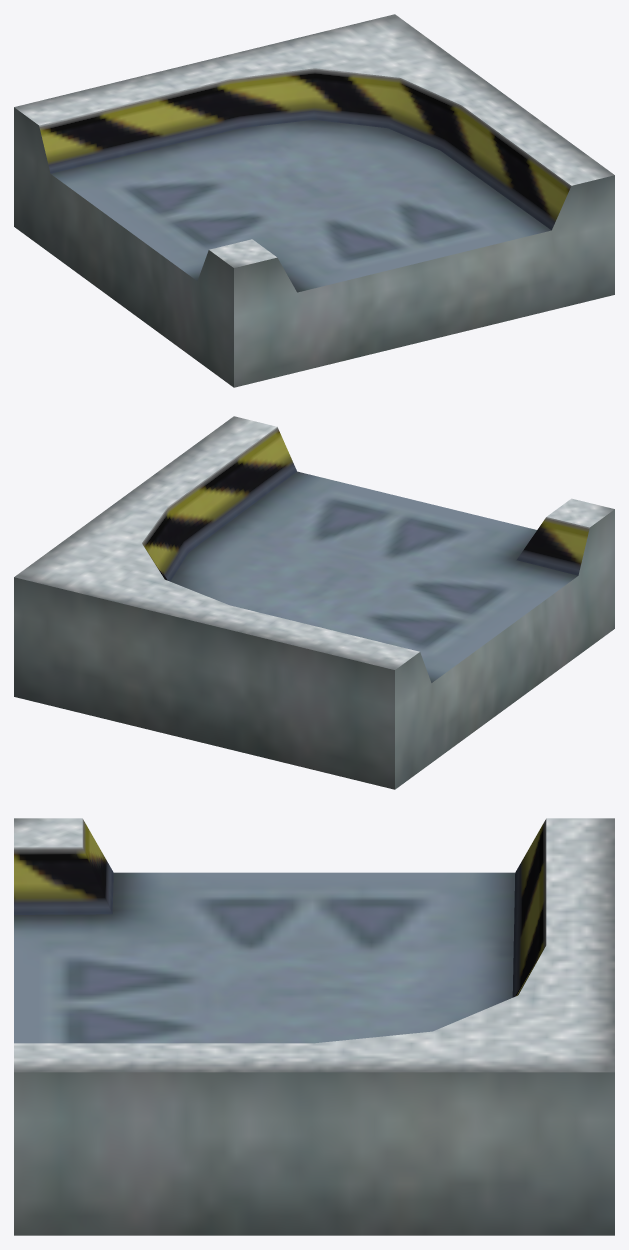
The model's file is ind_tile_corner.obj.
The picture shows the model from 3 angles, top to bottom: view 1: azimuth 30°, elevation 25°; view 2: azimuth 150°, elevation 25°; view 3: azimuth 270°, elevation 25°; orthographic projection. The views are drawn at different scales.
Visible parts, largest first — view 1: tile_corner; view 2: tile_corner; view 3: tile_corner.
Part boxes in pixels (x1,y1,x2,y2): tile_corner: (14,14,614,387); tile_corner: (14,416,614,789); tile_corner: (14,818,614,1235).
Size of the model in its own units: 1 by 0.3 by 1.
1 material, 1 textured.
